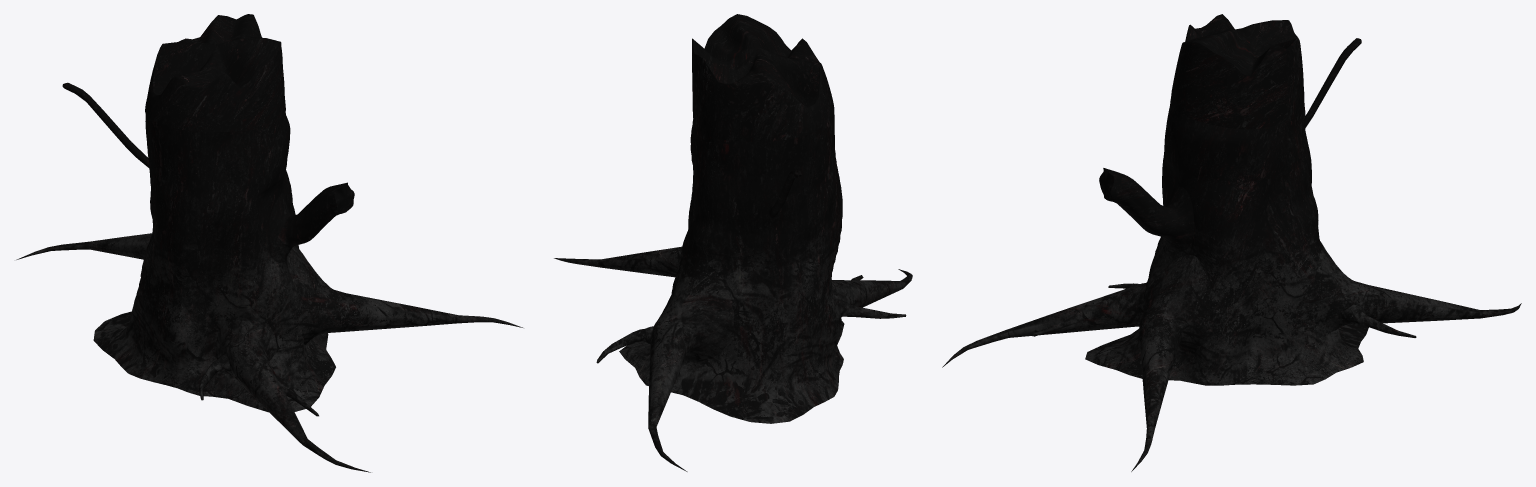
The model's file is Tree 3.fbx.
3 views of the same model, side by side, from view 1: azimuth 30°, elevation 25°; view 2: azimuth 150°, elevation 25°; view 3: azimuth 270°, elevation 25° (orthographic). The views are drawn at different scales.
Parts seen in each view (by area): view 1: polySurface20; view 2: polySurface20; view 3: polySurface20.
Boxes of the visible parts, x1,y1,x2,y2 form: polySurface20: (16, 14, 522, 472); polySurface20: (554, 14, 912, 471); polySurface20: (942, 14, 1521, 471).
Bounding box in the file's own units: 191 × 172 × 264.
Materials: 1 (1 with a texture image).
